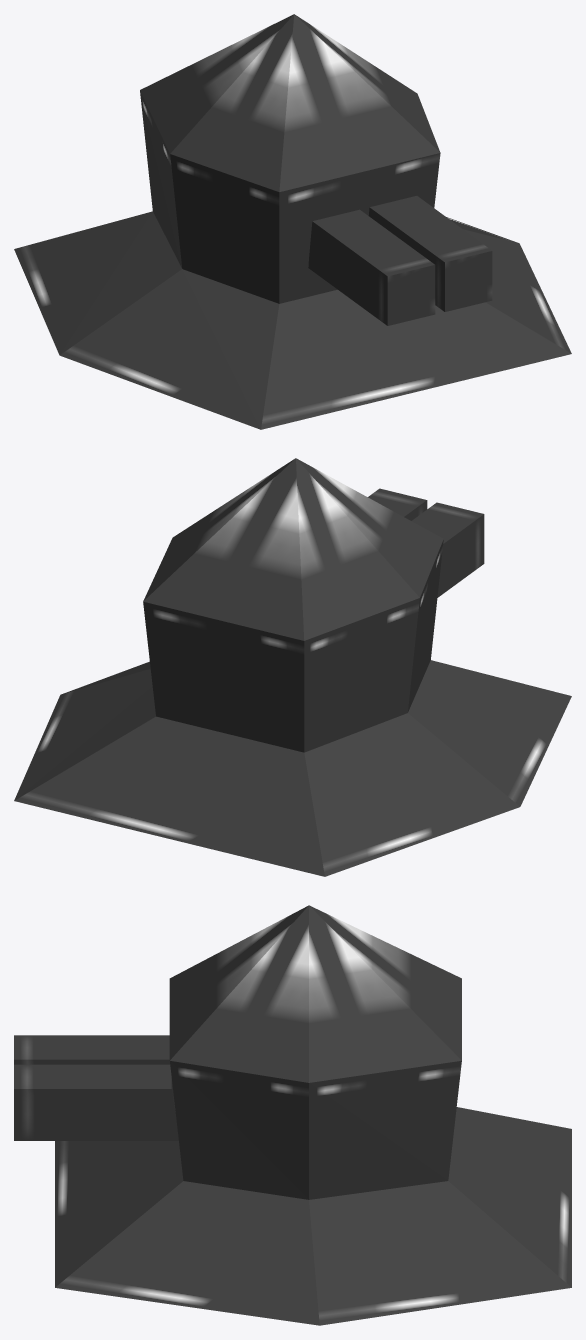
3 renders of one model, top to bottom at view 1: azimuth 30°, elevation 25°; view 2: azimuth 150°, elevation 25°; view 3: azimuth 270°, elevation 25°, orthographic. The views are drawn at different scales.
Visible parts, largest first — view 1: root; view 2: root; view 3: root.
Part boxes in pixels (left/top/right/bottom): root: left=14, top=14, right=571, bottom=429; root: left=14, top=458, right=571, bottom=876; root: left=14, top=905, right=571, bottom=1325.
Size of the model in its own units: 1.12 by 0.6699 by 1.12.
1 material, 1 textured.
